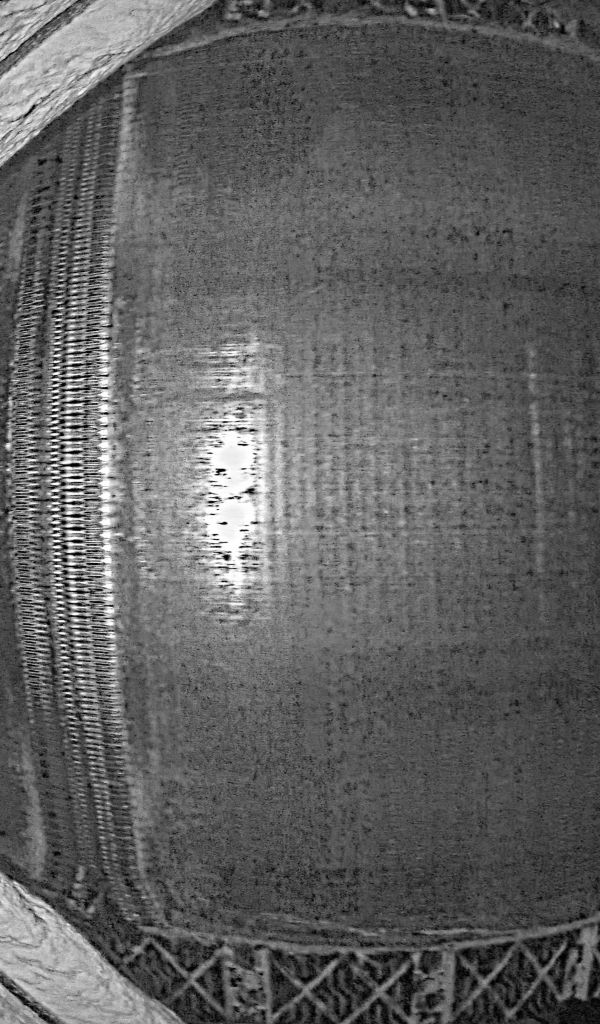damage: (69, 850, 177, 918)
splice: (14, 66, 171, 920)
